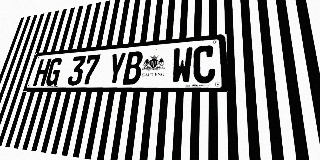3: (66, 55, 87, 85)
7: (80, 54, 101, 85)
B: (122, 51, 144, 85)
C: (193, 45, 215, 83)
G: (44, 57, 64, 86)
H: (33, 58, 52, 86)
W: (171, 47, 193, 84)
Y: (106, 52, 127, 85)
